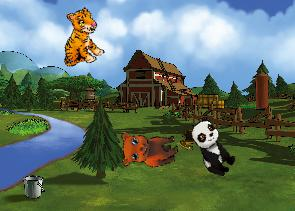bear: (116, 121, 181, 173)
panda: (181, 114, 242, 181)
tiger: (48, 5, 110, 72)
